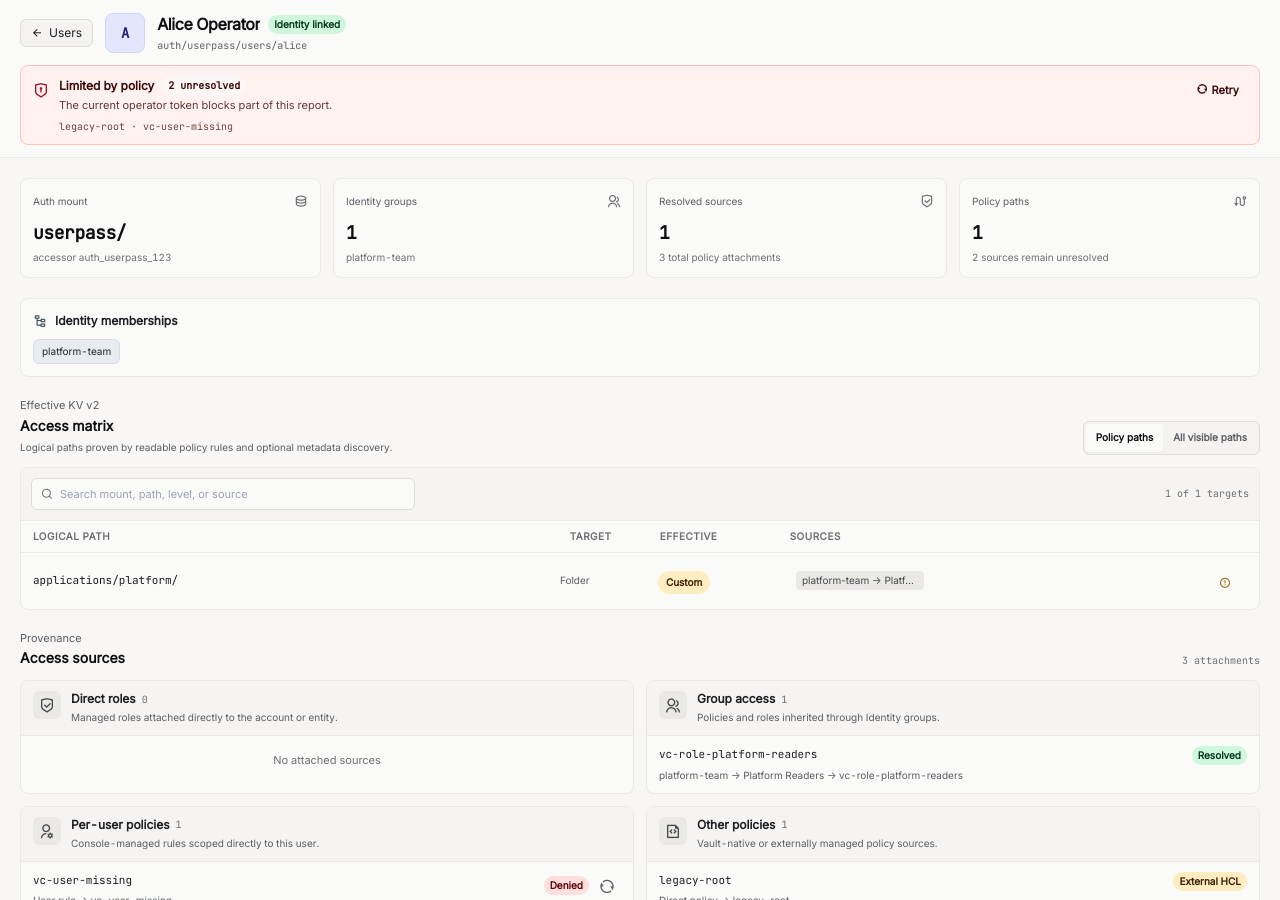
it: UserProfile › shows provenance, retries one failed policy, and keeps external HCL inert
Expected: the text "platform-team → Platform Readers → vc-role-platform-readers" is shown, 659,766 -> 963,782
Click the button named "Retry policy vc-user-missing" at {"x": 607, "y": 886}, box 593,872 -> 621,899
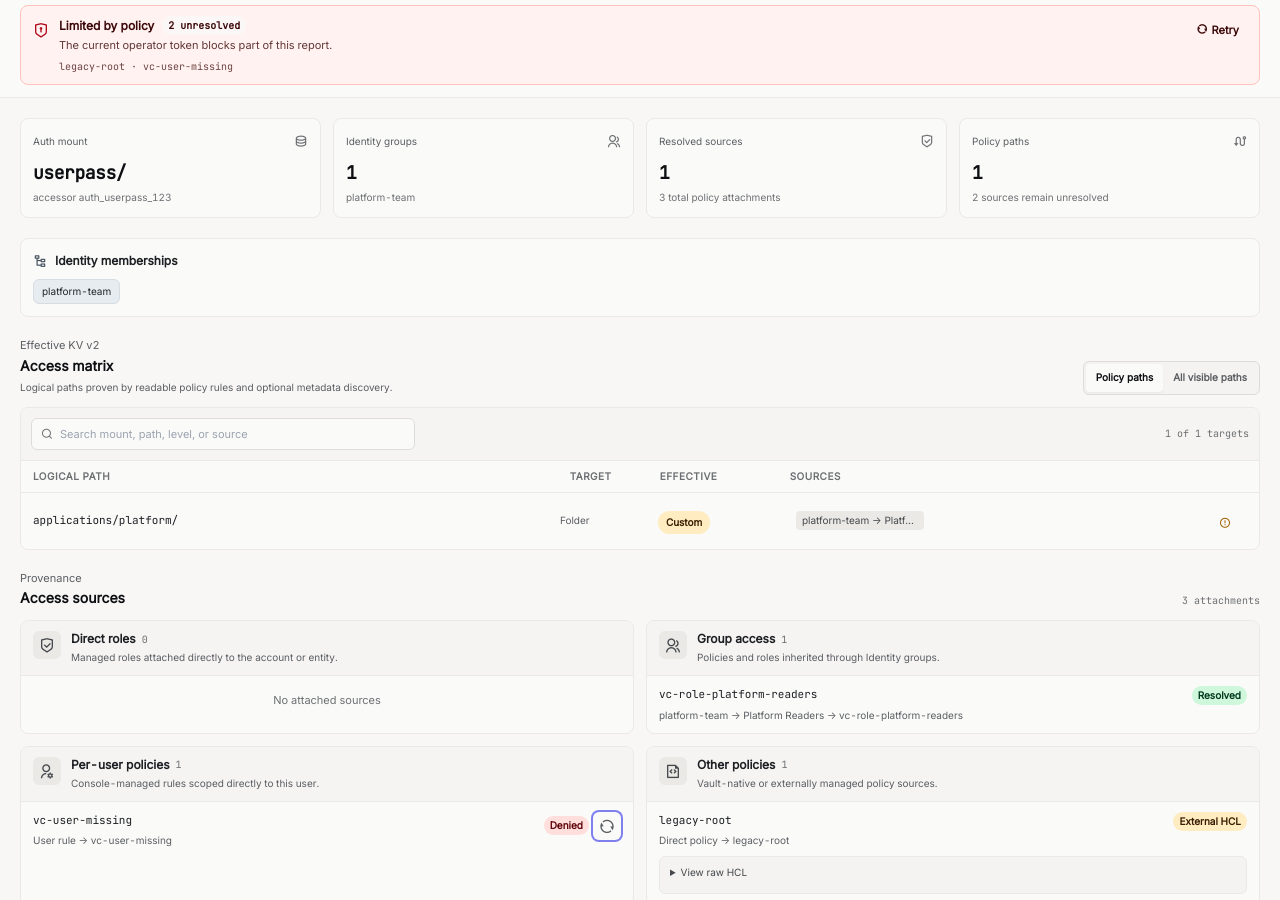
Click the heading "View raw HCL" at {"x": 714, "y": 872}, box 681,866 -> 747,878
(page scrolled)
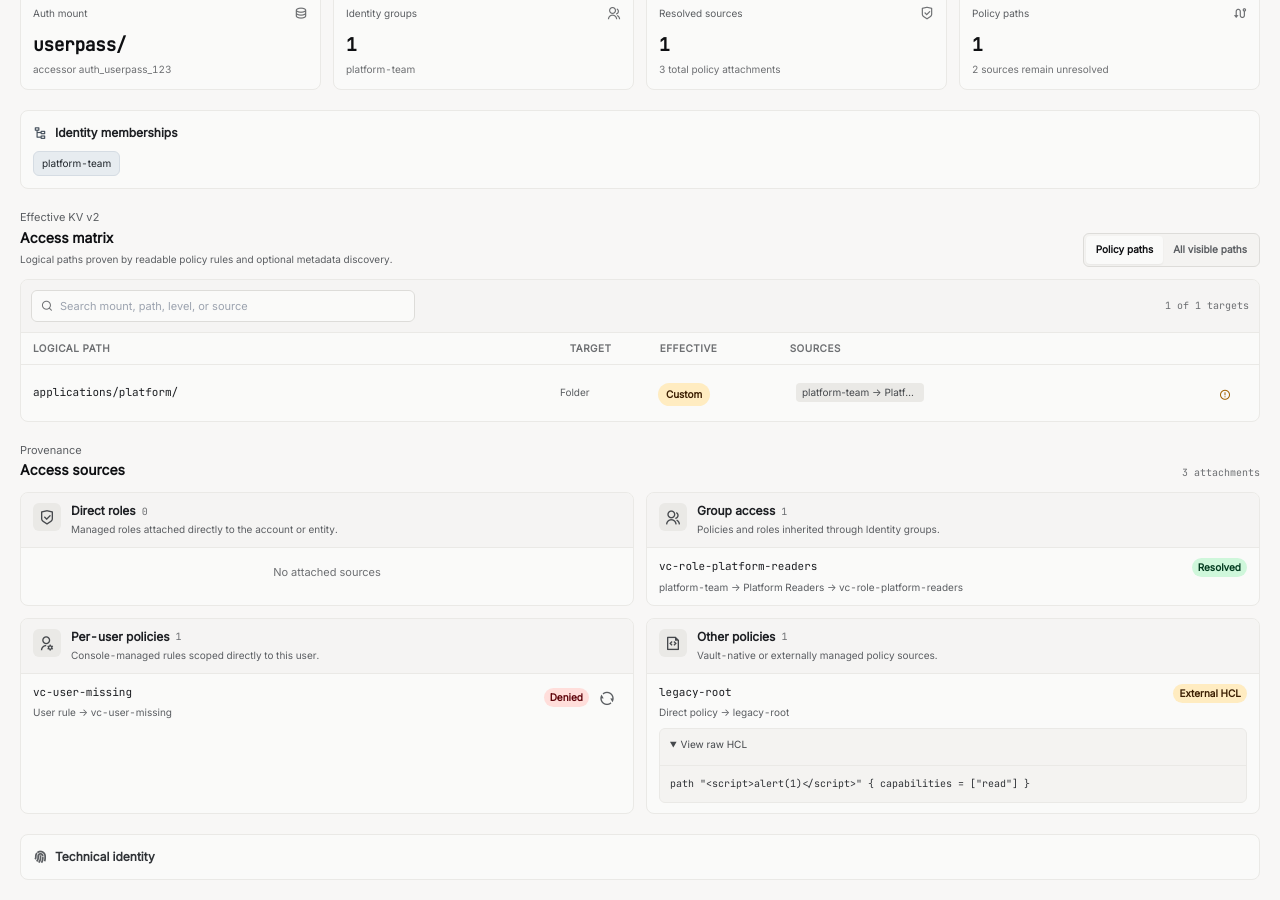
Expected: the text "path \"<script>alert(1)</script>\" { capabilities = [\"read\"] }" is shown, 660,765 -> 1246,802
